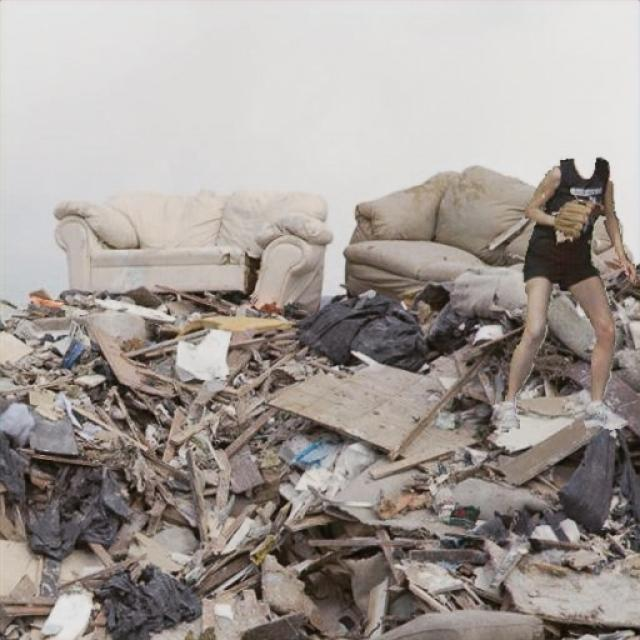Person in Rubble: (495, 158, 635, 432)
